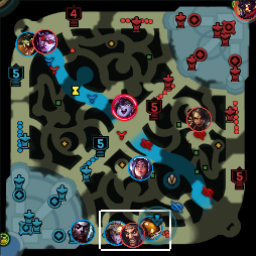bard: (136, 216, 163, 240)
draven: (120, 222, 144, 247)
ekko: (71, 221, 95, 244)
ezreal: (103, 219, 129, 244)
irelia: (127, 156, 152, 181)
lulu: (110, 93, 135, 120)
nidalee: (185, 106, 213, 133)
renekton: (16, 32, 40, 56)
vayne: (33, 29, 58, 54)
viktor: (233, 1, 256, 20)
